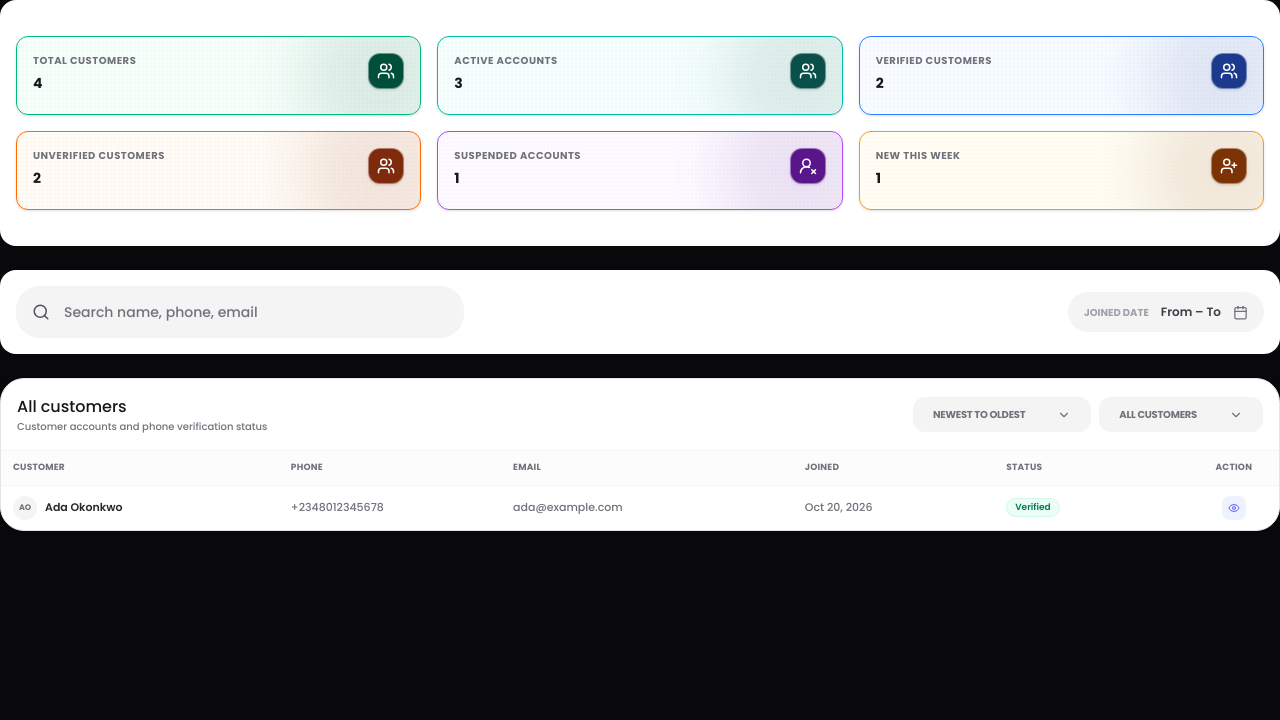
Test: Super Admin customers › shows unavailable paid metrics when the customer overview comes from an older backend
Check: the text "Ada Okonkwo" is shown, box [45,499,122,516]
Click the button named "View Ada Okonkwo" at (1234, 508), box [1222,496,1246,520]
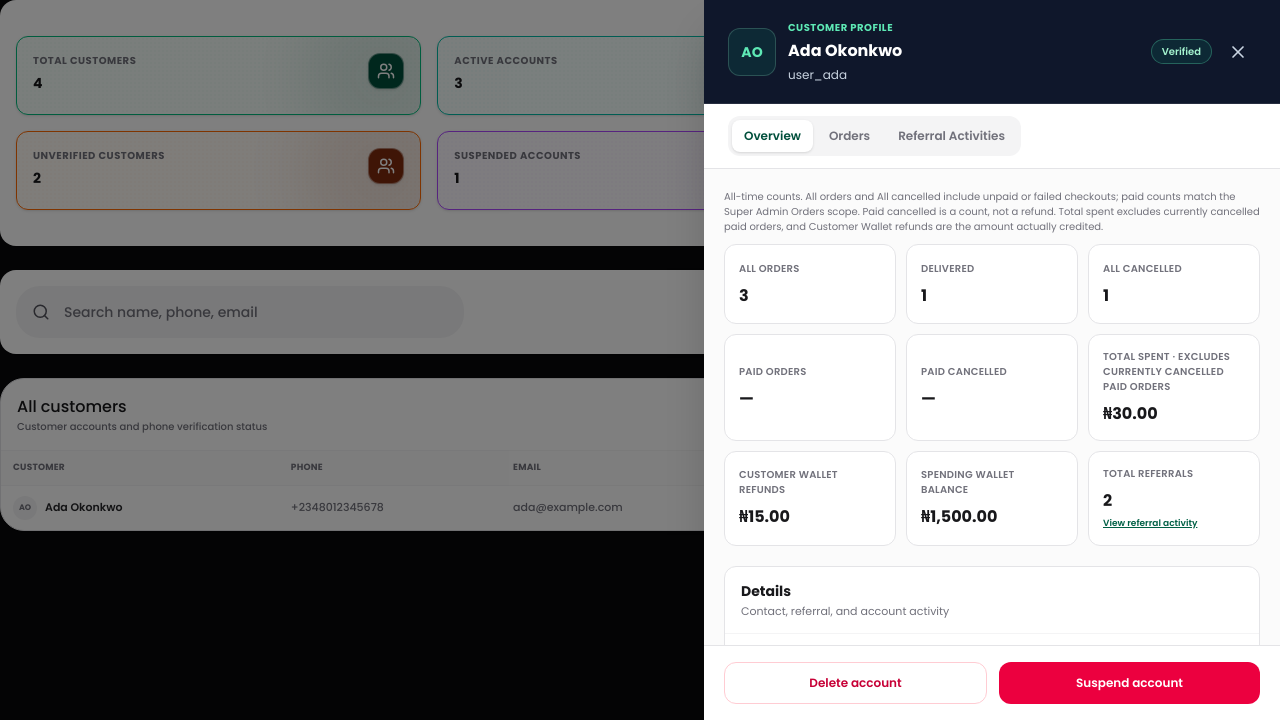
Check: the text "Paid orders" is shown, box [739,364,807,379]
